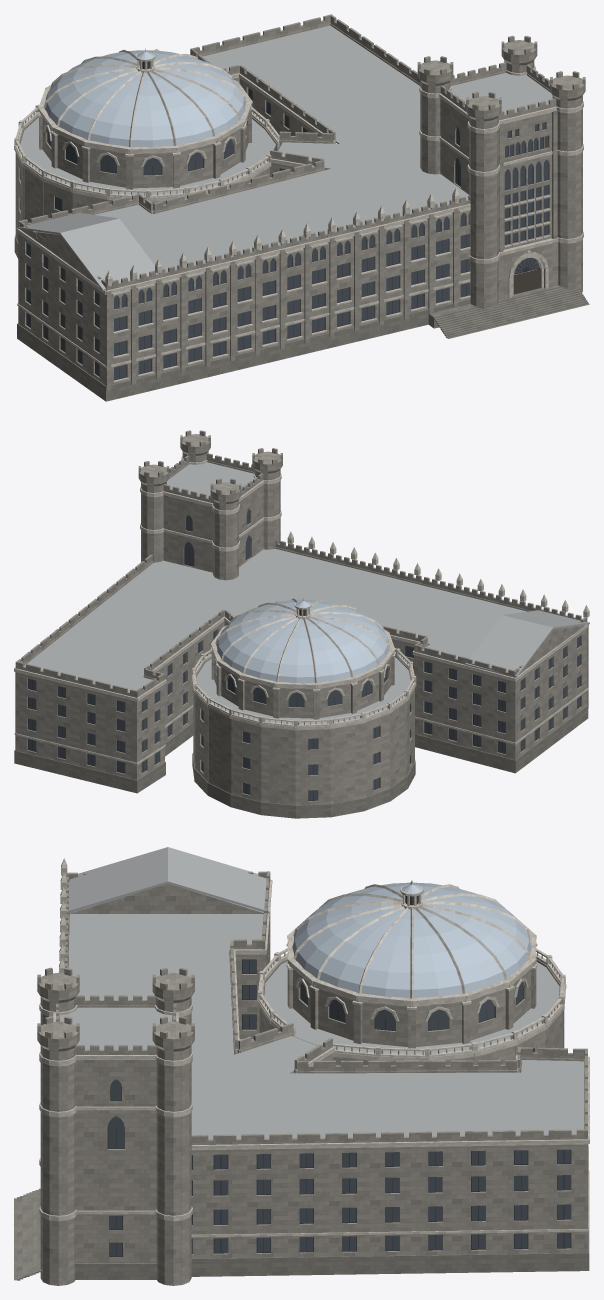
The picture shows the model from 3 angles, top to bottom: view 1: azimuth 30°, elevation 25°; view 2: azimuth 150°, elevation 25°; view 3: azimuth 270°, elevation 25°; orthographic projection. The views are drawn at different scales.
Visible parts, largest first — view 1: library__ashlar, library__roof, library__trim, library__glass, library__dome, library__base, library__frame, library__door; view 2: library__ashlar, library__roof, library__trim, library__dome, library__base, library__glass, library__frame; view 3: library__ashlar, library__roof, library__trim, library__dome, library__glass, library__base, library__frame.
Boxes of the visible parts, x1,y1,x2,y2 form: library__ashlar: (15,14,585,390); library__roof: (17,25,552,290); library__trim: (14,48,583,382); library__glass: (20,88,548,379); library__dome: (45,50,246,146); library__base: (14,235,589,401); library__frame: (26,90,548,380); library__door: (513,269,539,294); library__ashlar: (15,430,588,805); library__roof: (24,462,589,724); library__trim: (14,451,589,764); library__dome: (216,599,389,682); library__base: (14,705,588,818); library__glass: (28,509,580,800); library__frame: (28,513,580,800); library__ashlar: (37,871,588,1285); library__roof: (60,847,583,1139); library__trim: (39,858,589,1237); library__dome: (292,882,531,998); library__glass: (108,959,571,1256); library__base: (14,1170,589,1280); library__frame: (107,959,571,1257).
Bounding box in the file's own units: 76.81 × 32.84 × 67.55.
9 materials, 3 textured.
